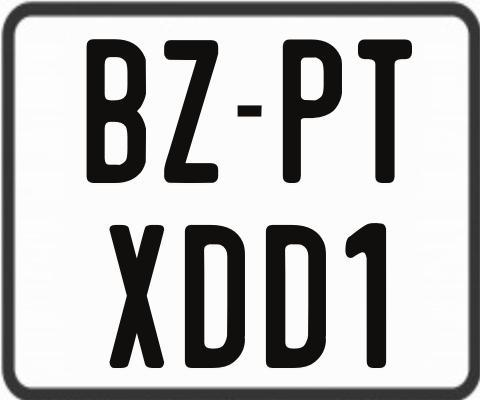1: (345, 221, 386, 372)
B: (85, 39, 146, 185)
D: (184, 223, 249, 370), (265, 223, 329, 366)
P: (283, 40, 344, 183)
T: (357, 38, 414, 184)
X: (108, 223, 166, 371)
Z: (164, 40, 223, 187)
